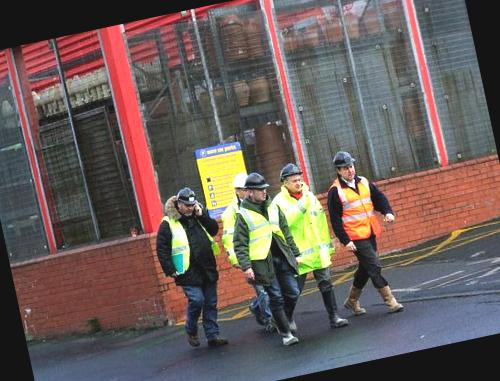person: (316, 142, 416, 322), (220, 167, 314, 351), (148, 183, 243, 354), (274, 156, 353, 332), (208, 169, 266, 285)
